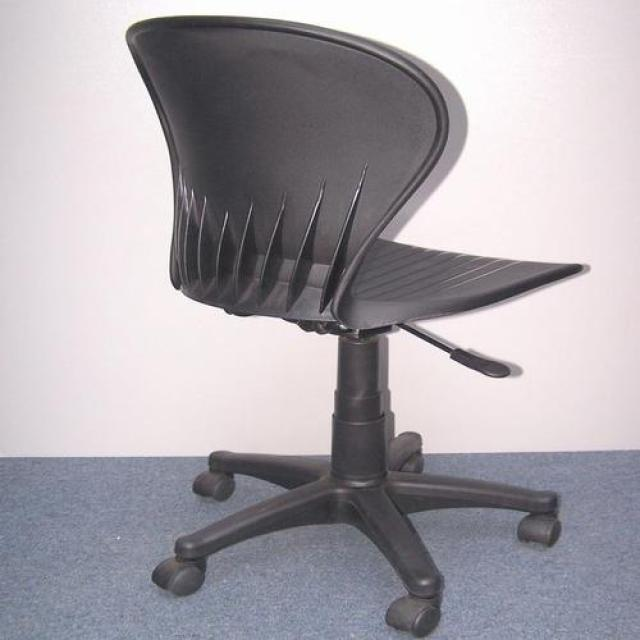swivelchair: (125, 15, 590, 639)
